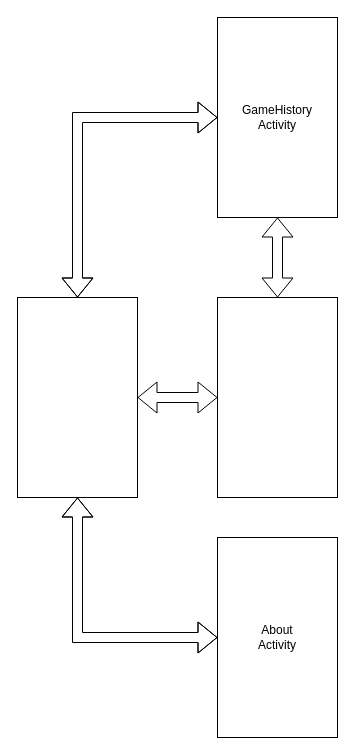
Image size: 355x755. Some labels were removed from this diagram. The shapes that lost their labels are listed below. From the top down, each one's box as (x1, y1, x2, y2) in pixels, then its label:
(16, 296, 138, 498): Main Activity
(216, 296, 338, 498): PuzzleSolving Activity
